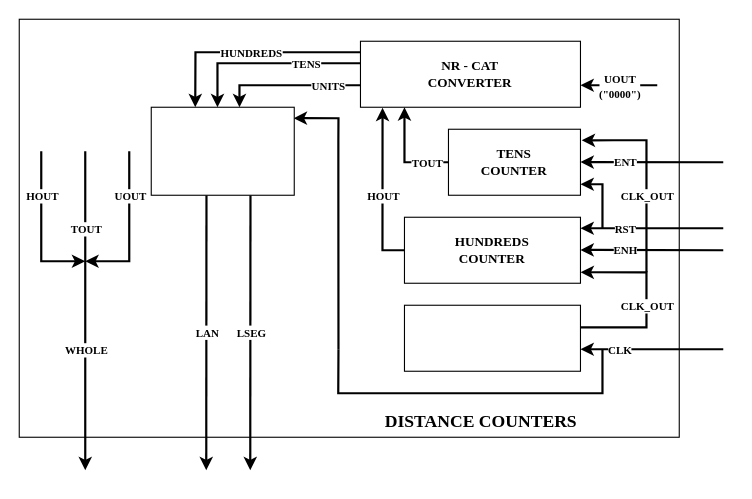
The diagram is 752 pixels wide and 499 high, and some of its shapes have lost their labels. The shapes that lost their labels are listed below. From the top down, each one's box as (x1, y1, x2, y2) in pixels, then its label:
(150, 106, 294, 195): THREE- DIGIT SSD
(403, 304, 580, 371): FREQUENCY DIVIDER
